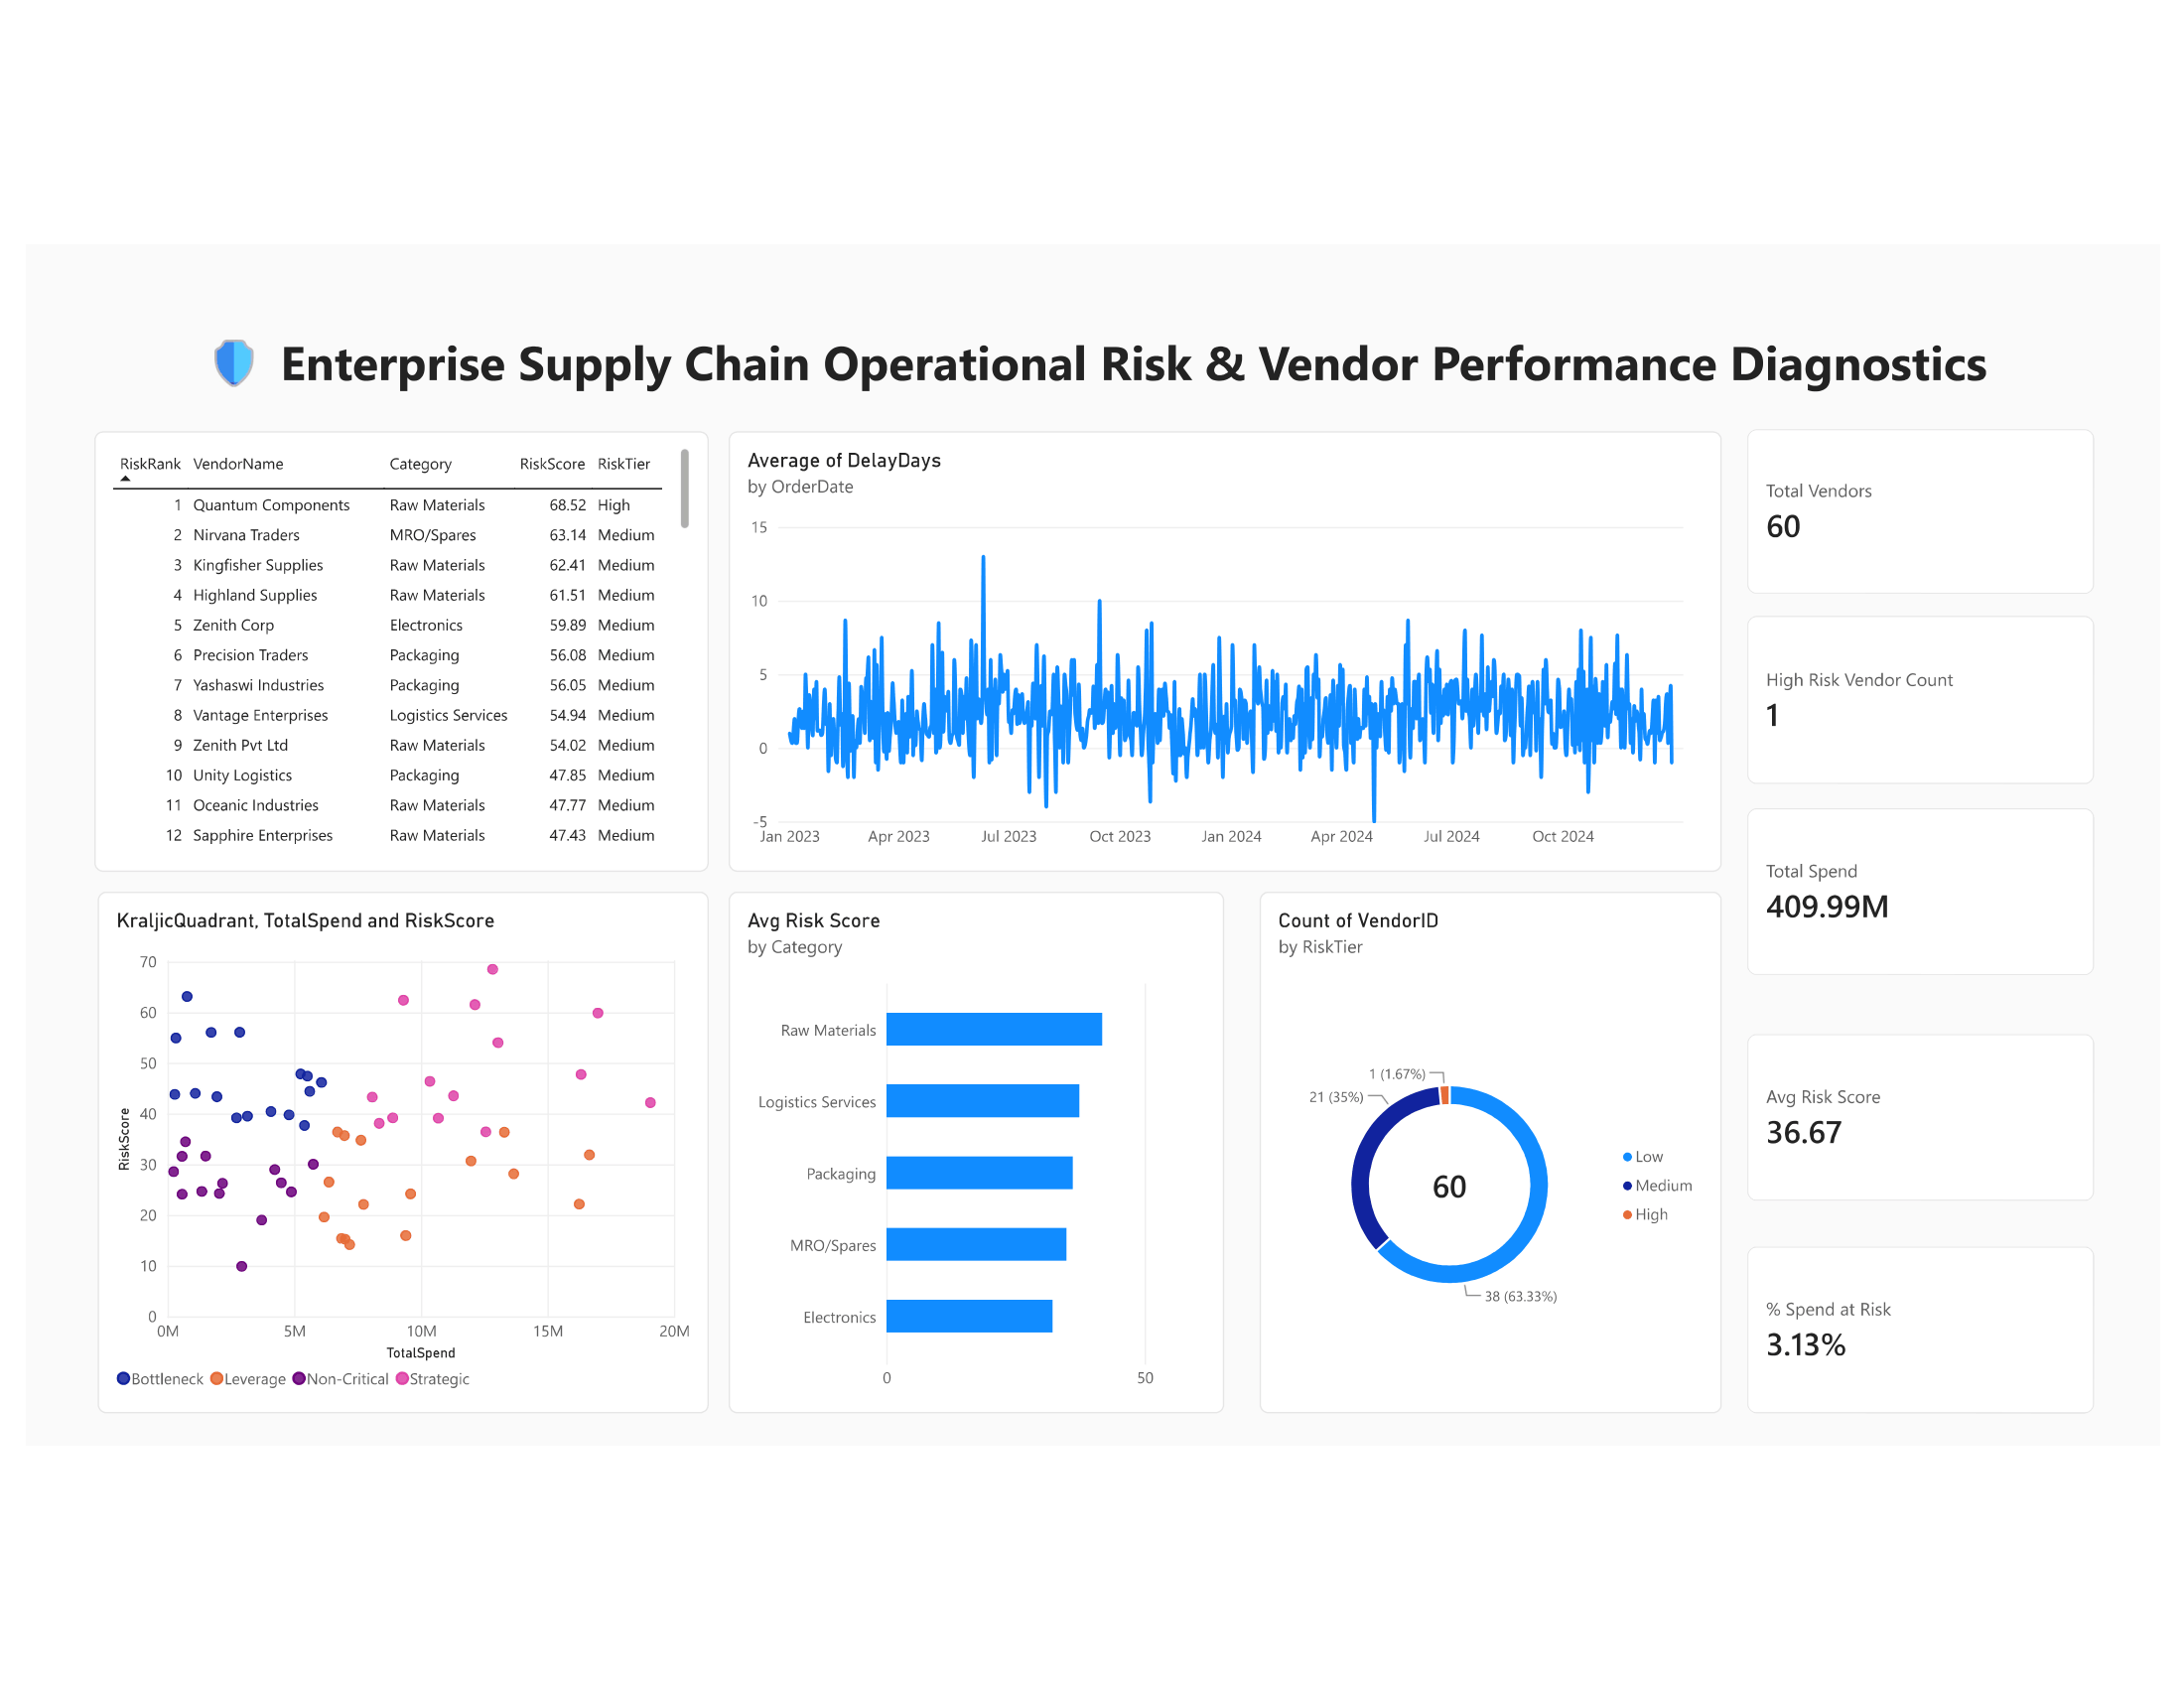

This screenshot's page, from the dashboard's own definition file:
{"tool":"powerbi","page":{"name":"Executive Summary","canvas":[1920,1080],"ordinal":0},"visuals":[{"type":"textbox","box":[62.3,76.2,1798.8,91.8],"z":0},{"type":"cardVisual","fields":{"Data":["VendorMetrics.Total Vendors"]},"box":[1549.2,166.1,311.7,147.9],"z":1000},{"type":"cardVisual","fields":{"Data":["VendorMetrics.High Risk Vendor Count"]},"box":[1549.2,334.4,311.7,150.1],"z":2000},{"type":"cardVisual","fields":{"Data":["VendorMetrics.Avg Risk Score"]},"box":[1549.2,709.8,312,150],"z":3000},{"type":"cardVisual","fields":{"Data":["VendorMetrics.Total Spend"]},"box":[1549.2,507.3,312,150],"z":4000},{"type":"cardVisual","fields":{"Data":["VendorMetrics.% Spend at Risk"]},"box":[1549.2,900.9,312,150],"z":5000},{"type":"donutChart","fields":{"Category":["VendorMetrics.RiskTier"],"Y":["CountNonNull(VendorMetrics.VendorID)"]},"box":[1110.1,582.4,416.3,468.6],"z":6000},{"type":"clusteredBarChart","fields":{"Category":["VendorMetrics.Category"],"Y":["VendorMetrics.Avg Risk Score"]},"box":[632.4,582.4,445.9,468.6],"z":7000},{"type":"scatterChart","fields":{"Series":["VendorMetrics.KraljicQuadrant"],"X":["VendorMetrics.TotalSpend"],"Y":["VendorMetrics.RiskScore"]},"box":[63.7,582.4,550.5,468.6],"z":8000},{"type":"lineChart","fields":{"Category":["PurchaseOrders.OrderDate"],"Y":["Avg(PurchaseOrders.DelayDays)"]},"box":[632.4,168.3,894,395.8],"z":9000},{"type":"tableEx","fields":{"Values":["VendorMetrics.RiskRank","VendorMetrics.VendorName","VendorMetrics.Category","VendorMetrics.RiskScore","VendorMetrics.RiskTier"]},"box":[61.4,168.3,552.8,395.8],"z":10000}]}

Visuals, with their boxes on the page's 1920x1080 design canvas (x1, y1, x2, y2). These are canvas units, not pixel positions in the 2184x1688 screenshot, which may show the page scaled, cropped or inside an application window:
textbox: <box>62,76,1861,168</box>
cardVisual - VendorMetrics.Total Vendors: <box>1549,166,1861,314</box>
cardVisual - VendorMetrics.High Risk Vendor Count: <box>1549,334,1861,484</box>
cardVisual - VendorMetrics.Avg Risk Score: <box>1549,710,1861,860</box>
cardVisual - VendorMetrics.Total Spend: <box>1549,507,1861,657</box>
cardVisual - VendorMetrics.% Spend at Risk: <box>1549,901,1861,1051</box>
donutChart - VendorMetrics.RiskTier x CountNonNull(VendorMetrics.VendorID): <box>1110,582,1526,1051</box>
clusteredBarChart - VendorMetrics.Category x VendorMetrics.Avg Risk Score: <box>632,582,1078,1051</box>
scatterChart - VendorMetrics.KraljicQuadrant x VendorMetrics.TotalSpend: <box>64,582,614,1051</box>
lineChart - PurchaseOrders.OrderDate x Avg(PurchaseOrders.DelayDays): <box>632,168,1526,564</box>
tableEx - VendorMetrics.RiskRank x VendorMetrics.VendorName: <box>61,168,614,564</box>
